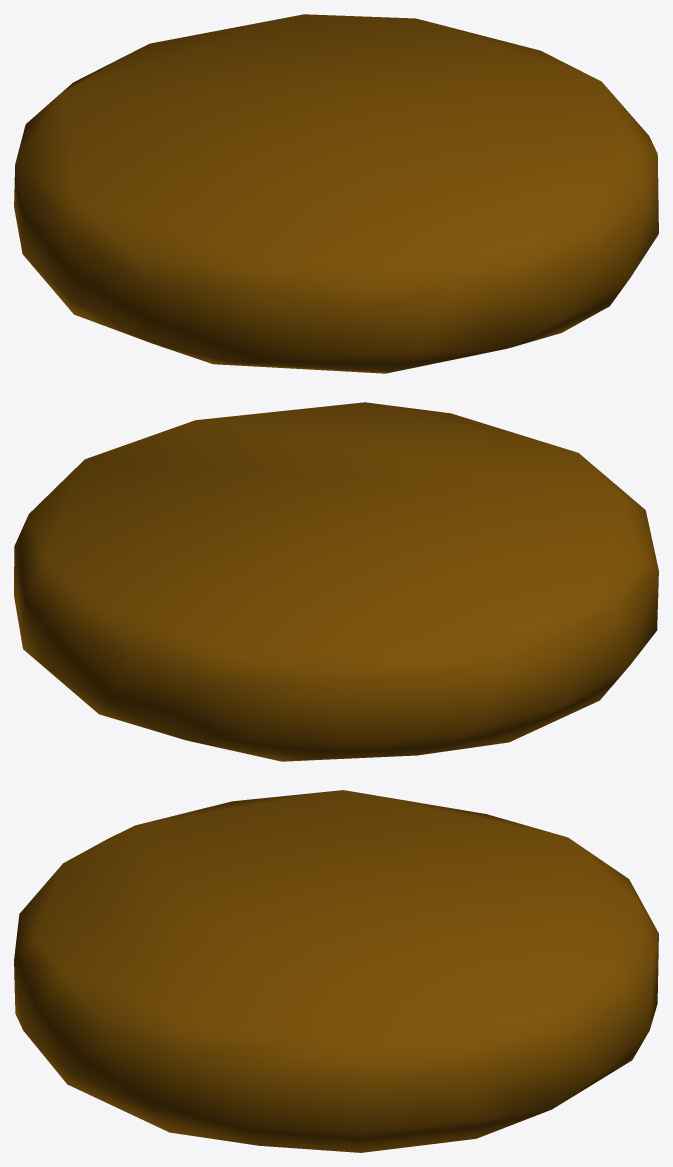
File: Carne.glb
3 renders of one model, top to bottom at view 1: azimuth 30°, elevation 25°; view 2: azimuth 150°, elevation 25°; view 3: azimuth 270°, elevation 25°, orthographic.
Parts seen in each view (by area): view 1: beef; view 2: beef; view 3: beef.
Part boxes in pixels (<box>): beef: <box>14,14,658,373</box>; beef: <box>14,402,658,761</box>; beef: <box>14,790,658,1152</box>.
Size of the model in its own units: 113 by 21.85 by 112.
